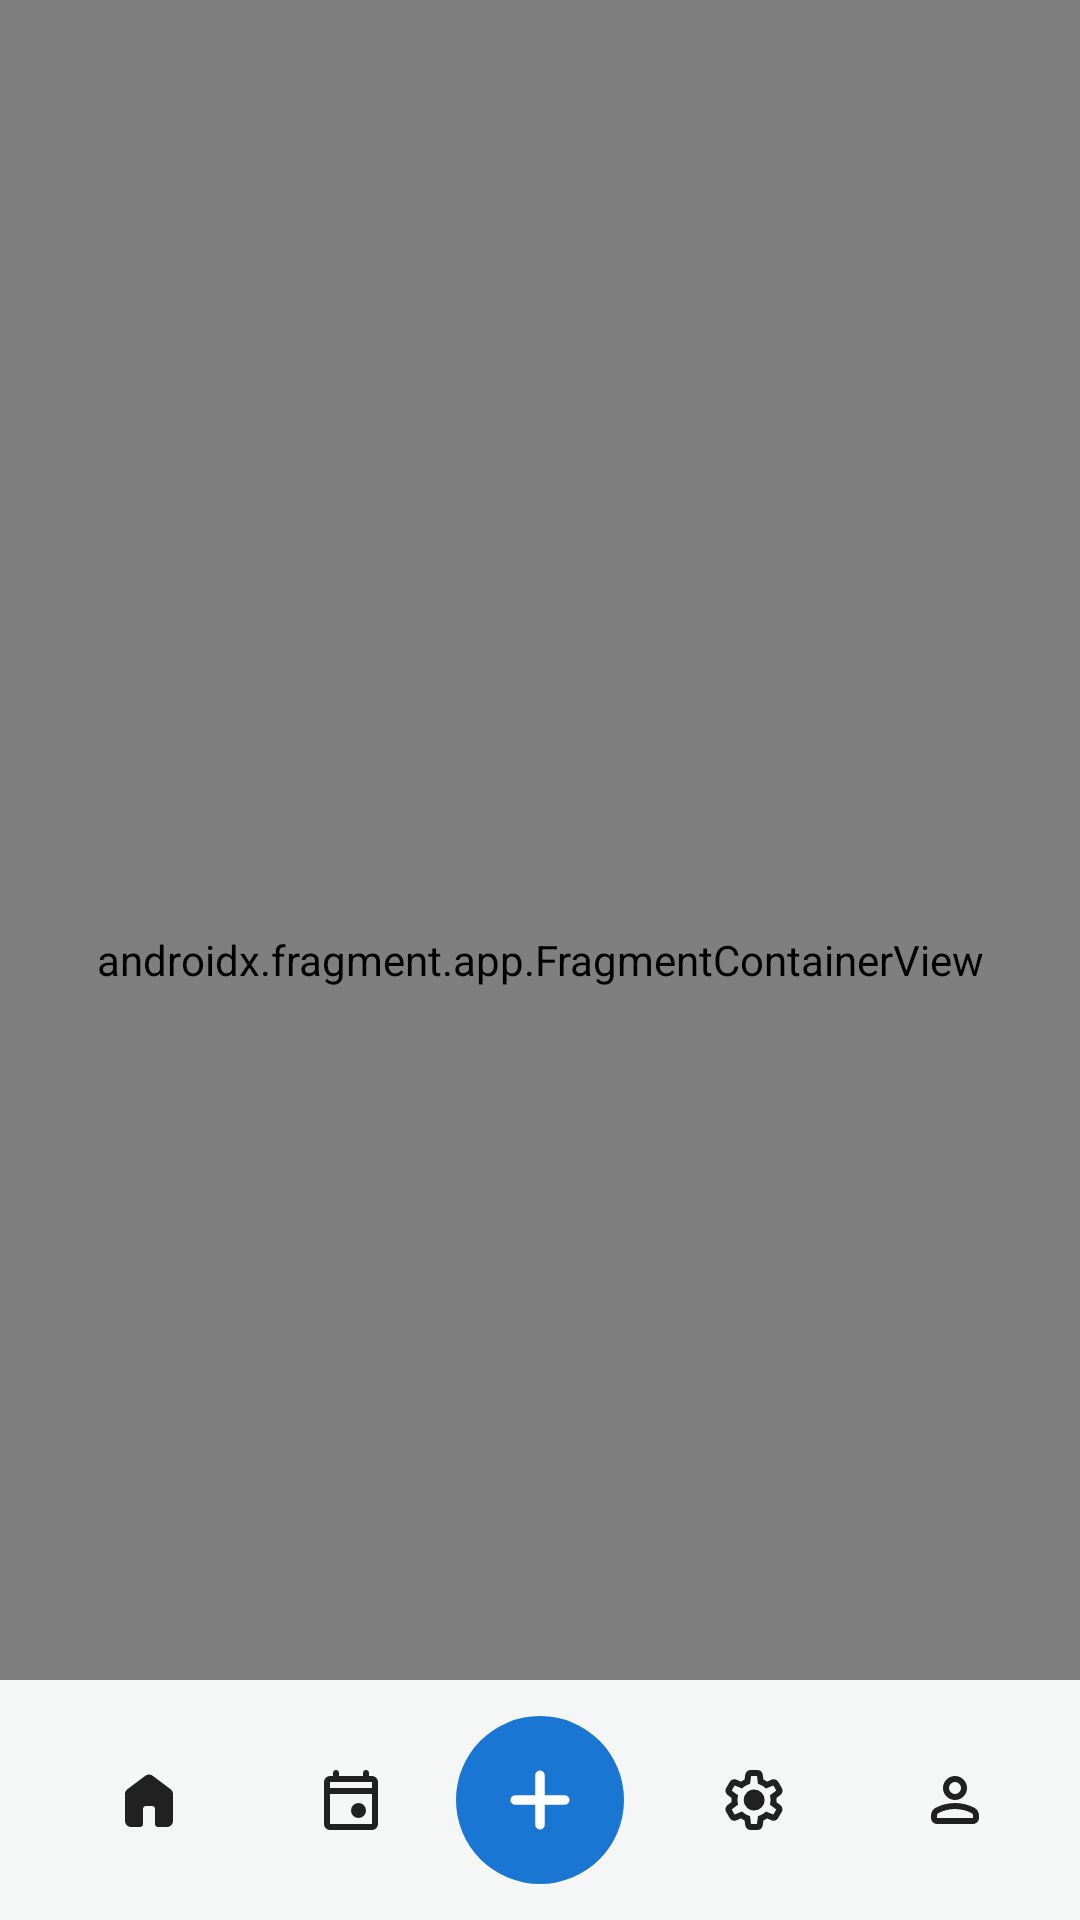

Named icons in this screenshot (1080px x 1920px) and their centers, point (x, y):
Tambah Jadwal: point (540, 1818)
